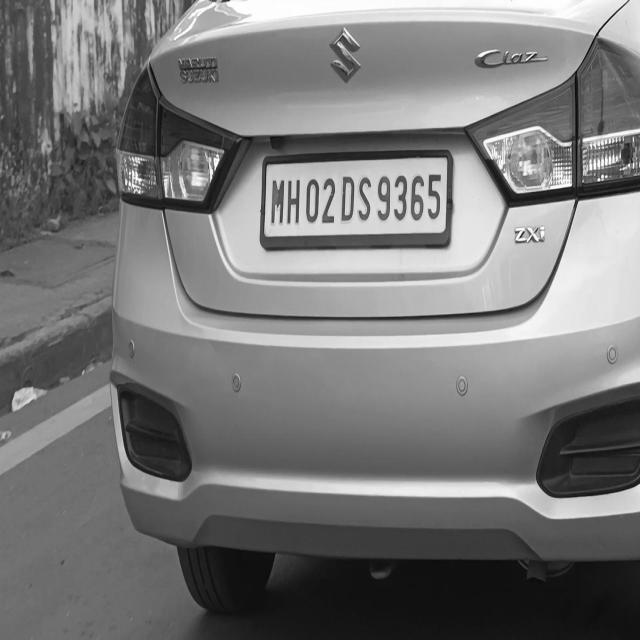license-plate: (264, 162, 453, 241)
